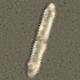ship: (37, 0, 42, 37)
